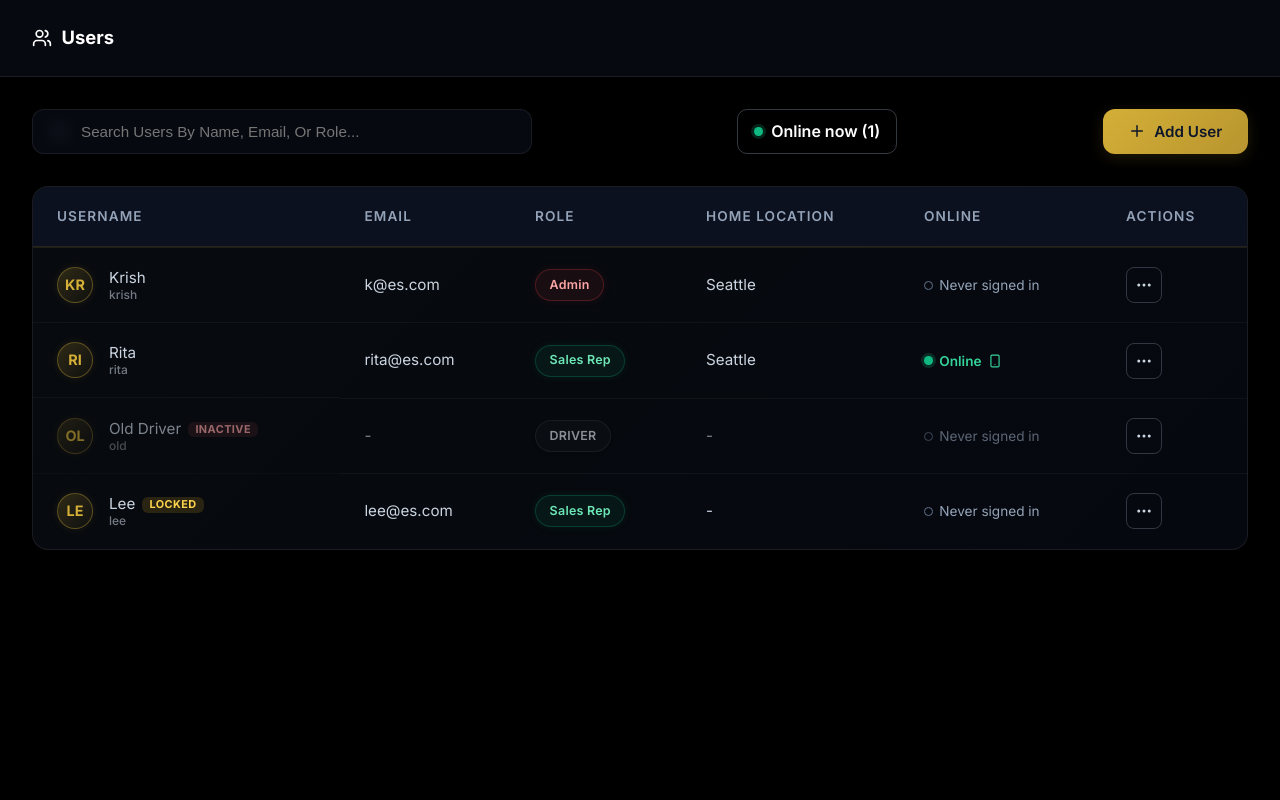
Test: Users & Roles › opens Edit user with the lock and Unlock now
Click the 4th button with class "row-menu-btn" at (1144, 511), box [1126,493,1162,529]
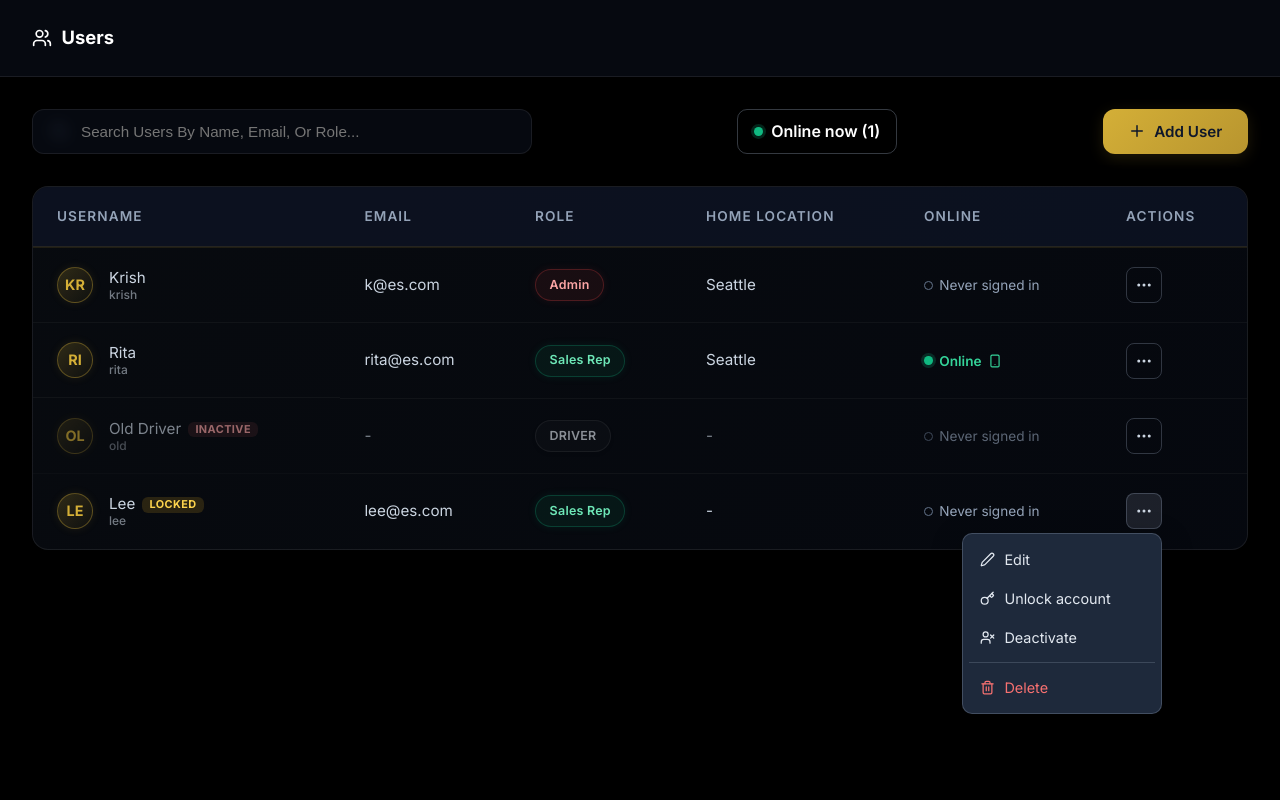
Click the menu item with class "row-menu-item" showing "Edit" at (1062, 560), box [969,540,1155,579]
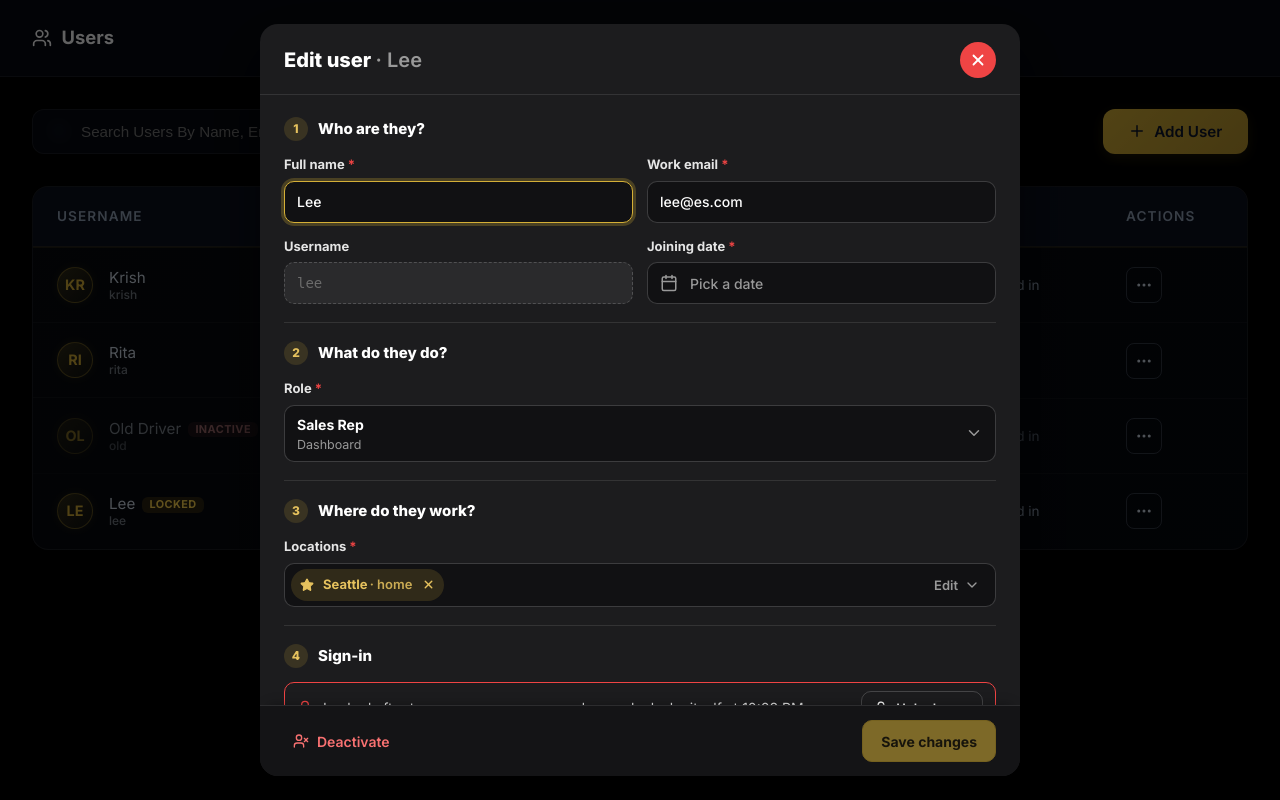
Expected: the text "Edit user" is shown, [284,48,376,72]
